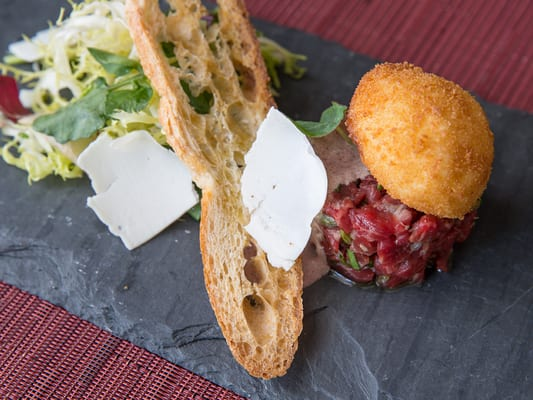soup: (308, 61, 496, 291)
